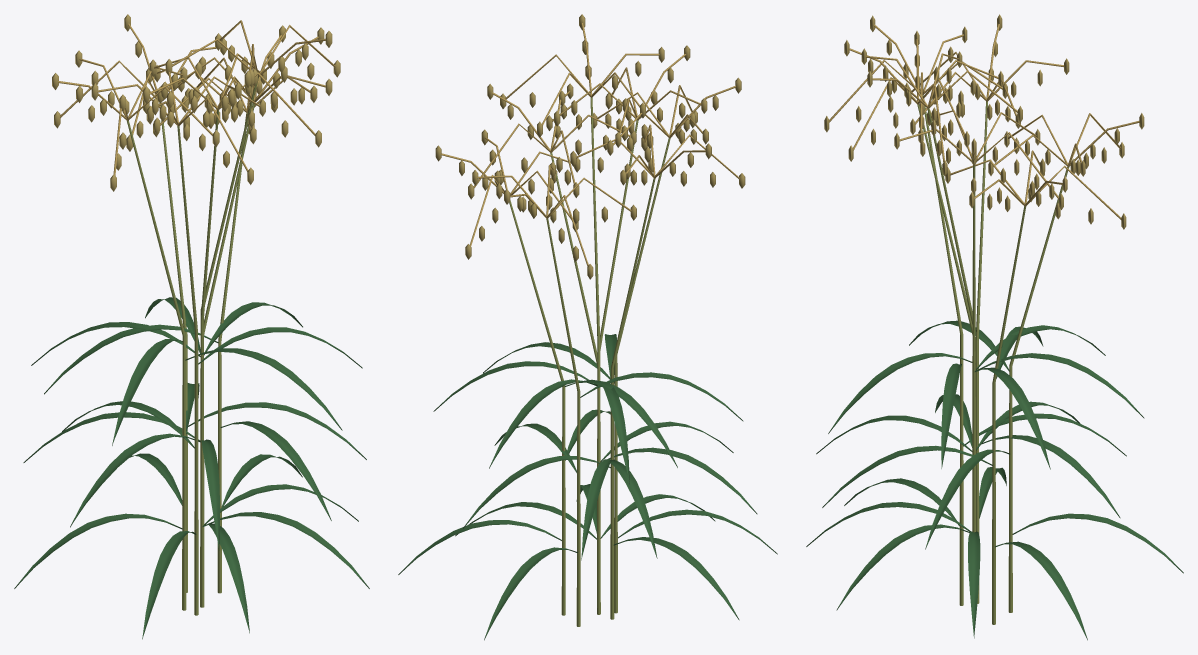
Rendered from arroz.glb.
The picture shows the model from 3 angles, left to right: view 1: azimuth 30°, elevation 25°; view 2: azimuth 150°, elevation 25°; view 3: azimuth 270°, elevation 25°; orthographic projection. The views are drawn at different scales.
Parts seen in each view (by area): view 1: arroz; view 2: arroz; view 3: arroz.
Part boxes in pixels (x1=…): arroz: x1=14, y1=14, x2=369, y2=639; arroz: x1=398, y1=14, x2=777, y2=640; arroz: x1=806, y1=14, x2=1183, y2=640.
Bounding box in the file's own units: 0.6961 × 1.2 × 0.7177.
